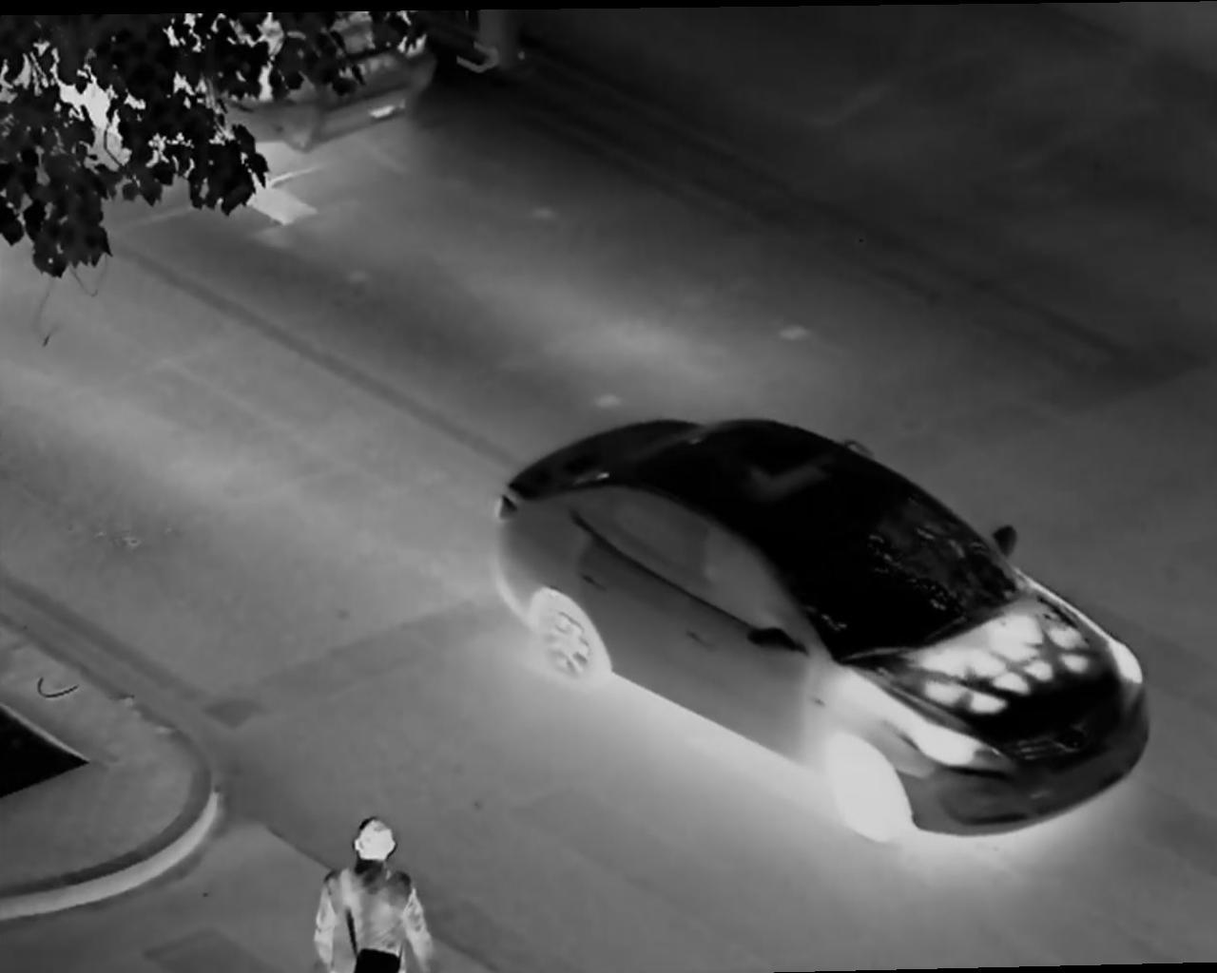person: (309, 811, 438, 973)
